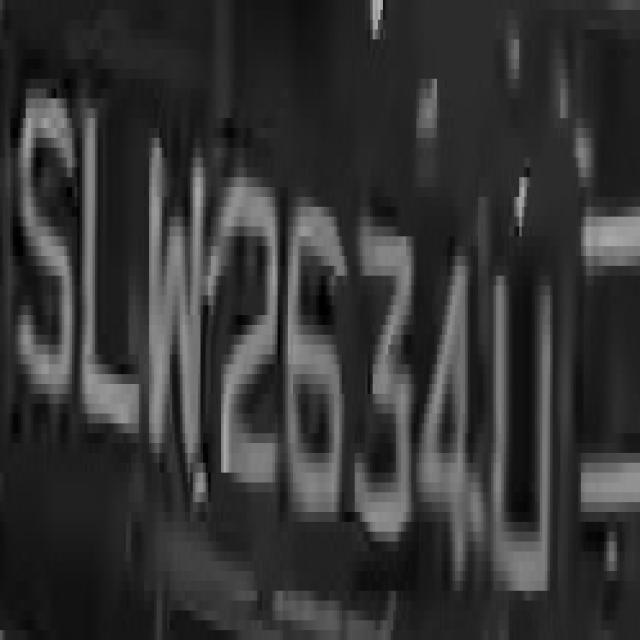2: (216, 148, 285, 522)
3: (347, 187, 419, 571)
4: (409, 207, 478, 581)
6: (278, 148, 350, 561)
L: (80, 89, 141, 462)
S: (10, 59, 72, 414)
U: (480, 227, 558, 620)
W: (139, 109, 211, 492)
